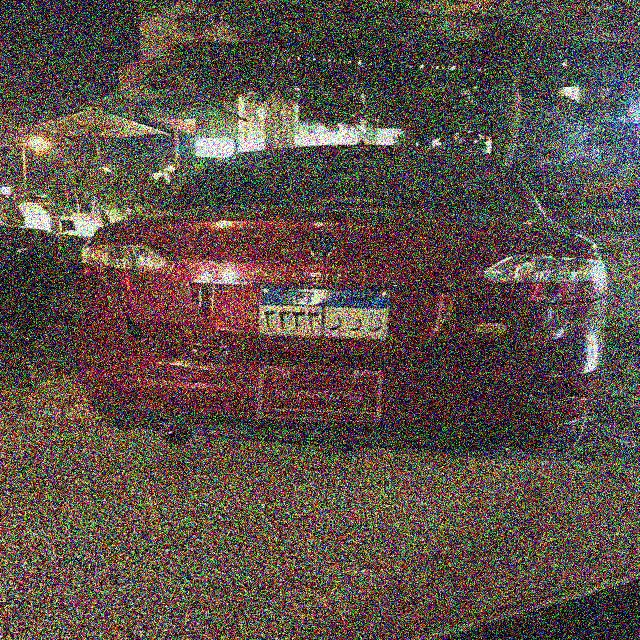License Plate: (256, 283, 395, 345)
